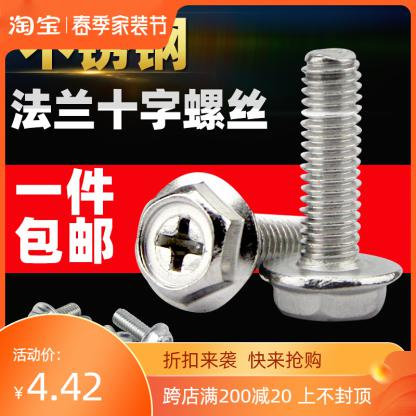FOD: (257, 46, 404, 324), (133, 170, 320, 315), (111, 306, 173, 346)
